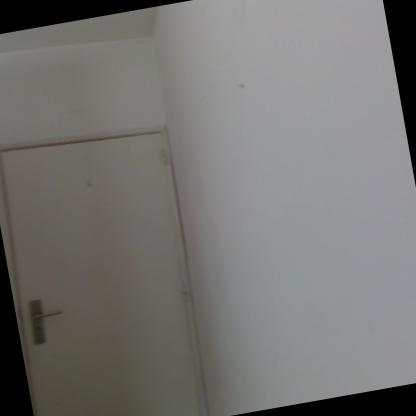closed: (0, 95, 248, 415)
